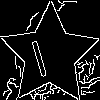I: (25, 30, 51, 78)
